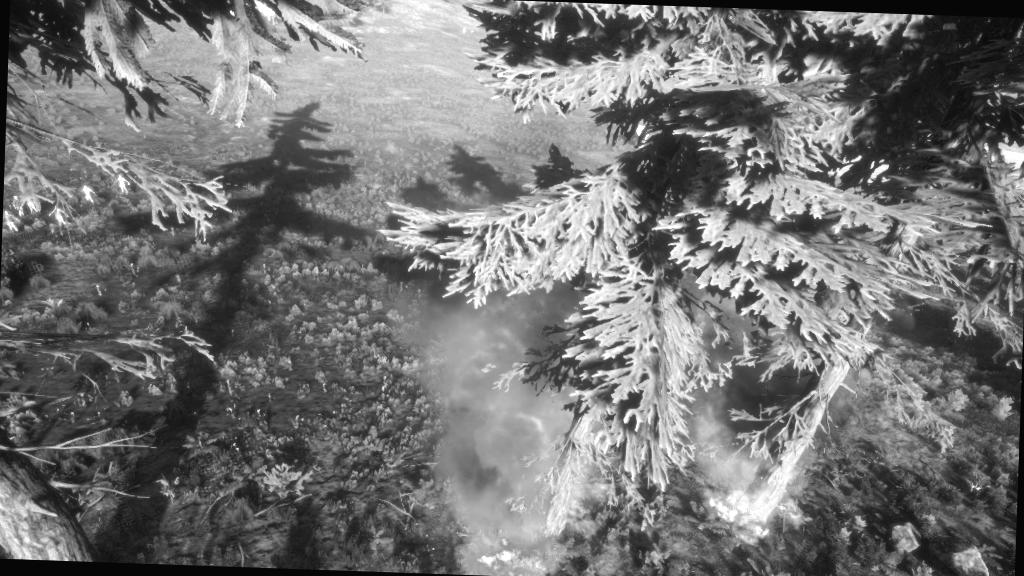Fire: (696, 436, 837, 552), (434, 492, 604, 575)
human: (107, 172, 136, 198), (6, 191, 31, 221), (78, 182, 100, 208), (46, 204, 72, 226), (2, 209, 22, 236), (26, 188, 38, 214)
smoke: (381, 233, 627, 529)
